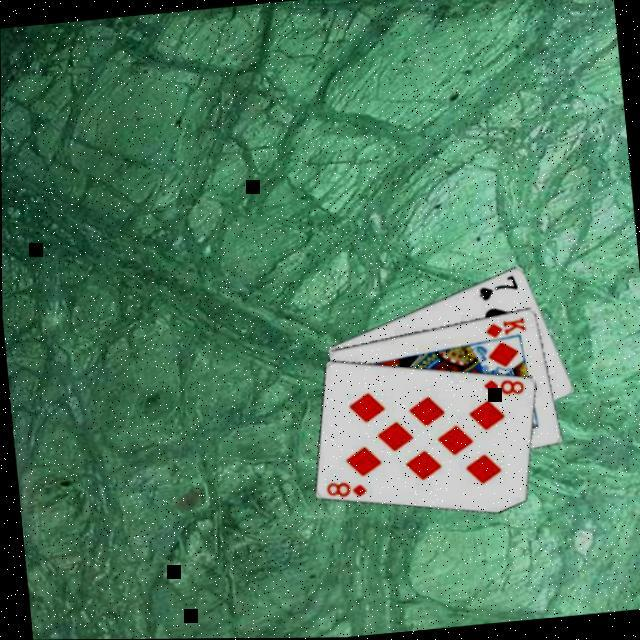7S: (474, 272, 521, 304)
8D: (481, 374, 528, 400), (323, 477, 371, 502)
KD: (482, 314, 530, 342)
